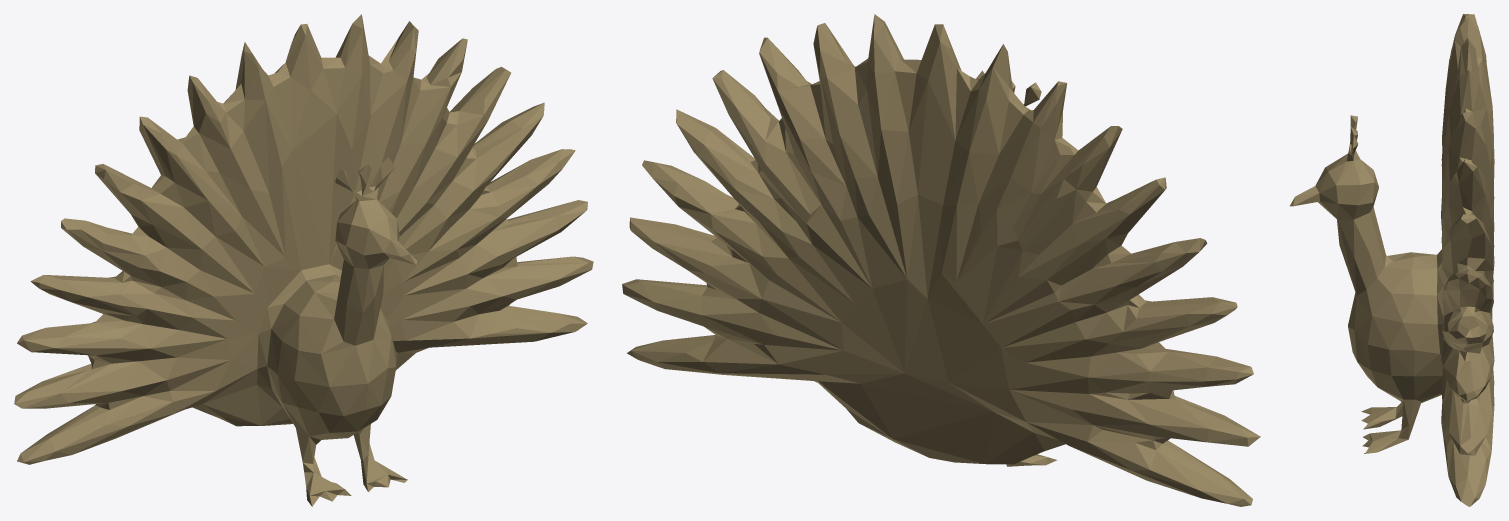
File: NEW_RECOVERY_011_LOD2.fbx
3 views of the same model, side by side, from view 1: azimuth 30°, elevation 25°; view 2: azimuth 150°, elevation 25°; view 3: azimuth 270°, elevation 25° (orthographic). The views are drawn at different scales.
Parts seen in each view (by area): view 1: Peacock_solid_original; view 2: Peacock_solid_original; view 3: Peacock_solid_original.
Boxes of the visible parts, bbox=[...] form: Peacock_solid_original: bbox=[14, 14, 593, 506]; Peacock_solid_original: bbox=[622, 14, 1260, 506]; Peacock_solid_original: bbox=[1290, 14, 1494, 506].
Bounding box in the file's own units: 450 × 149 × 318.
